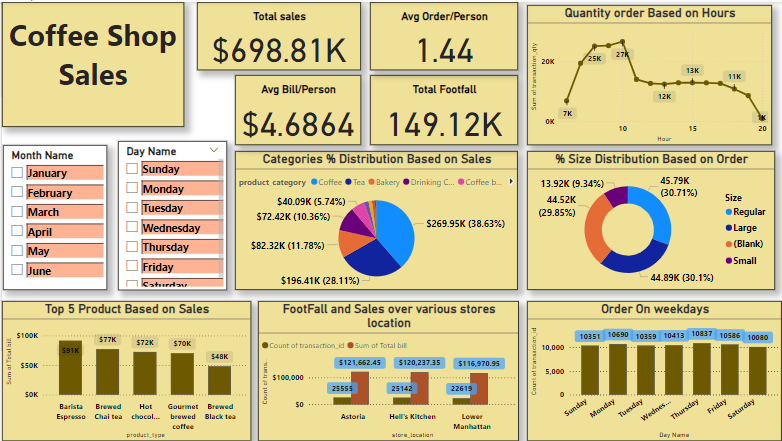

This screenshot's page, from the dashboard's own definition file:
{"tool":"powerbi","page":{"name":"Page 1","canvas":[1280,720],"ordinal":0},"visuals":[{"type":"slicer","fields":{"Values":["Transactions.Month Name"]},"box":[1.6,234.7,170.7,237.9],"z":0},{"type":"slicer","fields":{"Values":["Transactions.Day Name"]},"box":[190.4,228.1,178.9,244.5],"z":1000},{"type":"card","title":"Total sales","fields":{"Values":["Sum(Transactions.Total bill)"]},"box":[320,0,269.1,111.6],"z":2000},{"type":"lineChart","title":"Quantity order Based on Hours","fields":{"Y":["Sum(Transactions.transaction_qty)"],"Category":["Transactions.Hour"]},"box":[861.5,4.9,402.1,229.7],"z":3000},{"type":"pieChart","title":"Categories % Distribution Based on Sales","fields":{"Category":["Transactions.product_category"],"Y":["Sum(Transactions.Total bill)"]},"box":[382.4,244.5,464.4,228.1],"z":4000},{"type":"donutChart","title":"% Size Distribution Based on Order","fields":{"Category":["Transactions.Size"],"Y":["CountNonNull(Transactions.product_category)"]},"box":[861.5,244.5,407,228.1],"z":5000},{"type":"clusteredColumnChart","title":"Top 5 Product Based on Sales","fields":{"Category":["Transactions.product_type"],"Y":["Sum(Transactions.Total bill)"]},"box":[0,490.7,408.6,229.7],"z":6000},{"type":"lineClusteredColumnComboChart","title":"FootFall and Sales over various stores location","fields":{"Category":["Transactions.store_location"],"Y":["CountNonNull(Transactions.transaction_id)","Sum(Transactions.Total bill)"]},"box":[420.1,490.7,428.3,229.7],"z":7000},{"type":"lineClusteredColumnComboChart","title":"Order On weekdays","fields":{"Y":["Count(Transactions.transaction_id)"],"Category":["Transactions.Day Name"]},"box":[861.5,490.7,418.5,229.7],"z":8000},{"type":"card","title":"Total Footfall","fields":{"Values":["Count(Transactions.transaction_id)"]},"box":[603.9,119.8,242.9,114.9],"z":9000},{"type":"card","title":"Avg Bill/Person","fields":{"Values":["Avg(Transactions.Total bill)"]},"box":[382.4,119.8,206.8,114.9],"z":10001},{"type":"card","title":"Avg Order/Person","fields":{"Values":["Avg(Transactions.transaction_qty)"]},"box":[603.9,0,242.9,111.6],"z":10002},{"type":"textbox","box":[0,0,298.7,205.1],"z":10003}]}

Visuals, with their boxes in screenshot pixels (x1, y1, x2, y2), scaled from the page's 1280x720 canvas onto the 782x441 screenshot:
slicer - Transactions.Month Name: [1, 144, 105, 289]
slicer - Transactions.Day Name: [116, 140, 226, 289]
"Total sales" card: [196, 0, 360, 68]
"Quantity order Based on Hours" lineChart: [526, 3, 772, 144]
"Categories % Distribution Based on Sales" pieChart: [234, 150, 517, 289]
"% Size Distribution Based on Order" donutChart: [526, 150, 775, 289]
"Top 5 Product Based on Sales" clusteredColumnChart: [0, 301, 250, 440]
"FootFall and Sales over various stores location" lineClusteredColumnComboChart: [257, 301, 518, 440]
"Order On weekdays" lineClusteredColumnComboChart: [526, 301, 781, 440]
"Total Footfall" card: [369, 73, 517, 144]
"Avg Bill/Person" card: [234, 73, 360, 144]
"Avg Order/Person" card: [369, 0, 517, 68]
textbox: [0, 0, 182, 126]
